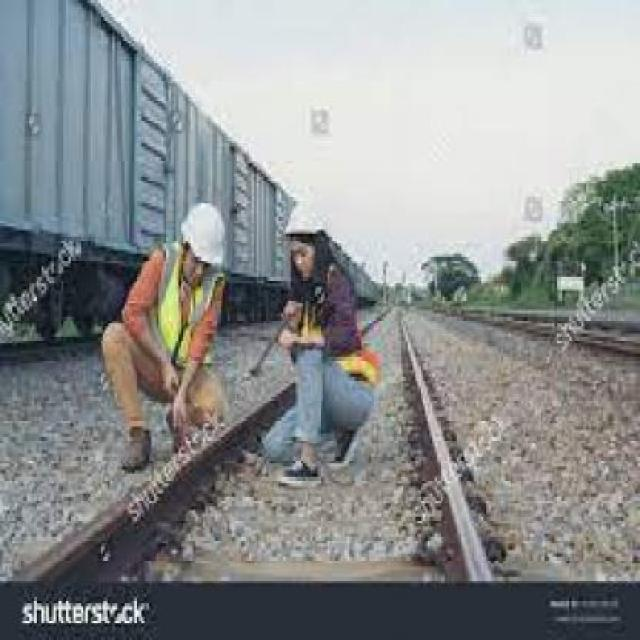rail: (1, 291, 528, 574)
